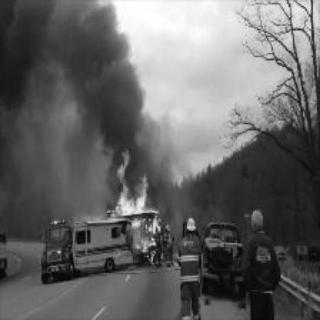Fire: (100, 148, 162, 260)
